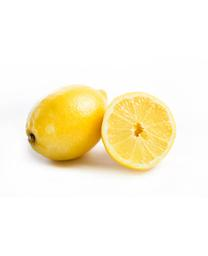lemon: (99, 91, 177, 172), (28, 86, 107, 162)
